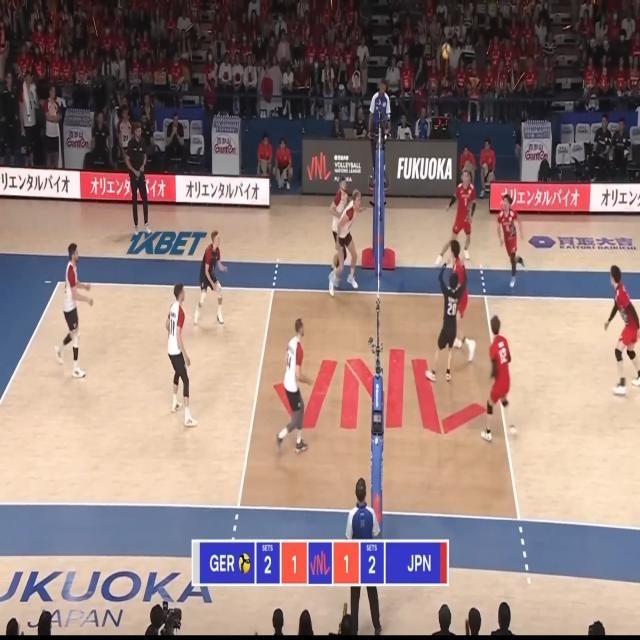ball: (442, 42, 451, 59)
